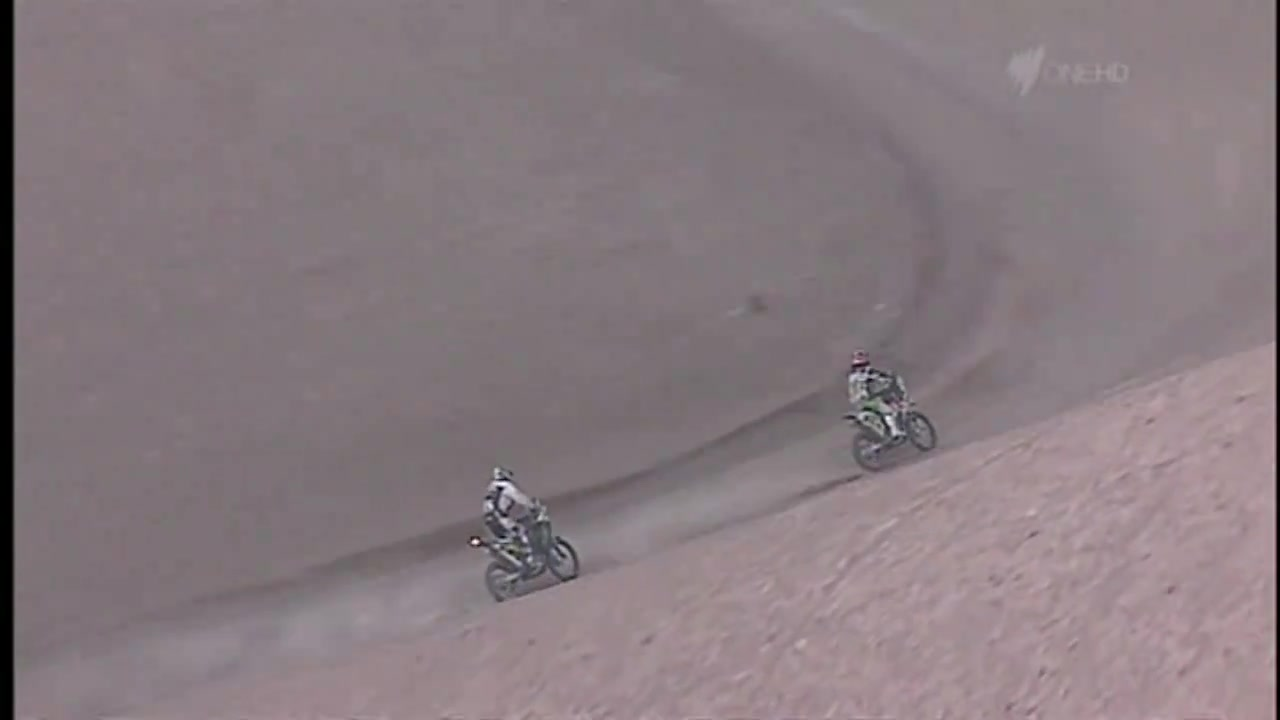motorbike: (848, 378, 943, 471)
